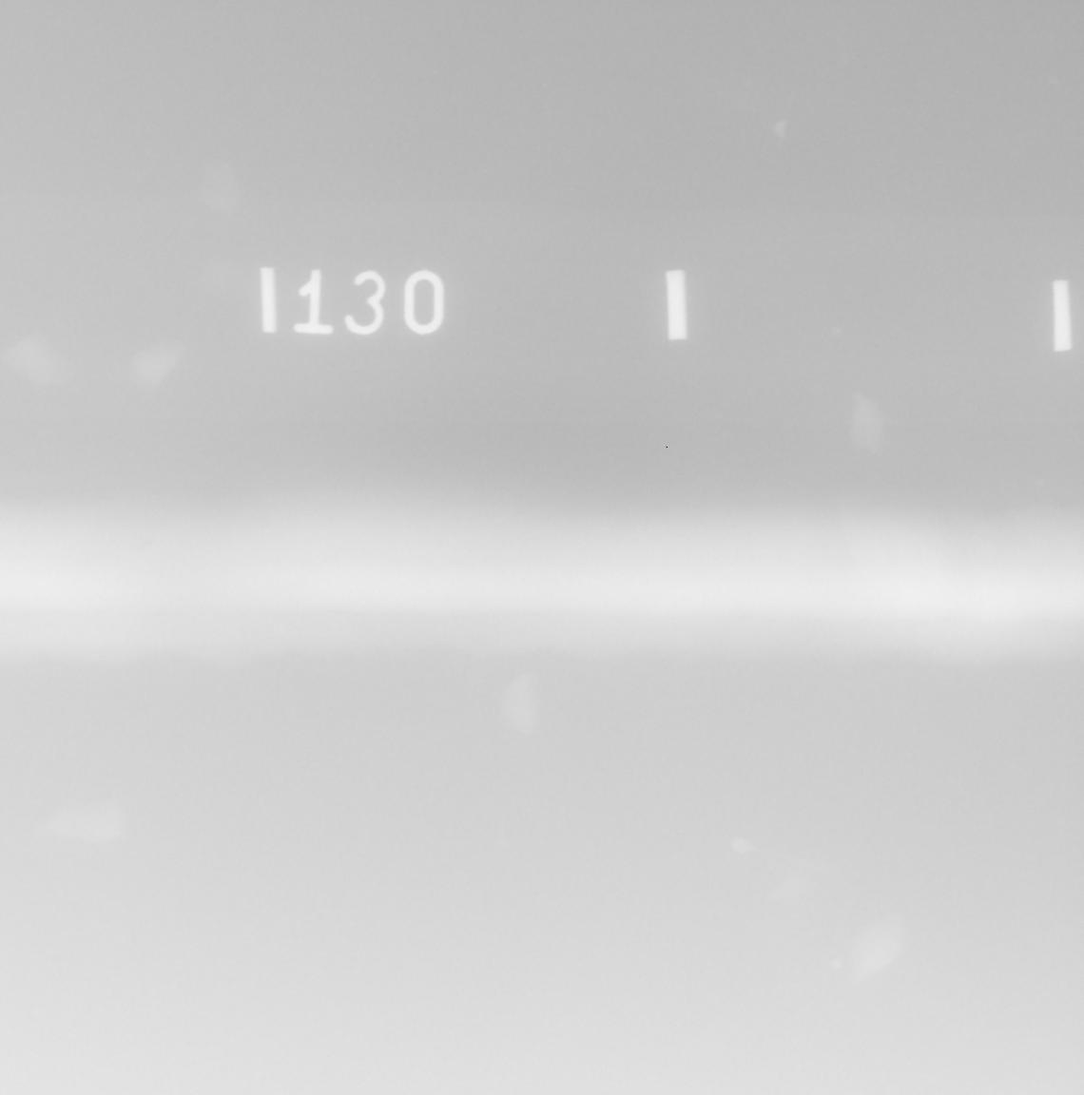Inclusion: (140, 538, 152, 550), (138, 535, 143, 539)
